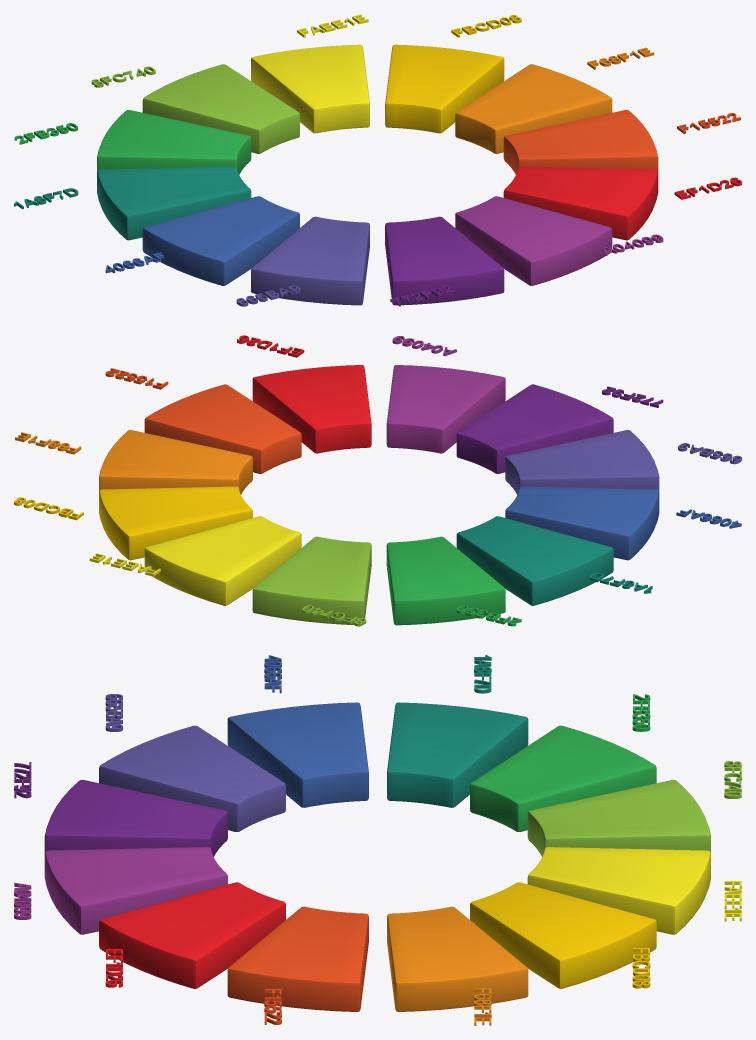
File: color_wheel2.glb
3 renders of one model, top to bottom at view 1: azimuth 30°, elevation 25°; view 2: azimuth 150°, elevation 25°; view 3: azimuth 270°, elevation 25°, orthographic. The views are drawn at different scales.
Parts seen in each view (by area): view 1: Tube008, Tube005, Tube006, Tube012, Tube013, Tube007, Tube011, Tube002, Tube009, Tube004, Tube010, Tube003 (+6 smaller); view 2: Tube004, Tube013, Tube003, Tube009, Tube008, Tube002, Tube007, Tube010, Tube005, Tube012, Tube006, Tube011 (+11 smaller); view 3: Tube009, Tube012, Tube010, Tube011, Tube004, Tube005, Tube003, Tube006, Tube008, Tube013, Tube002, Tube007 (+8 smaller).
Part boxes in pixels (box(x1,y1,x2,y2)): Tube008: box(455, 196, 612, 285); Tube005: box(142, 196, 299, 285); Tube006: box(251, 216, 369, 305); Tube012: box(385, 44, 504, 133); Tube013: box(251, 44, 369, 133); Tube007: box(385, 216, 504, 305); Tube011: box(455, 64, 612, 153); Tube002: box(142, 64, 299, 153); Tube009: box(503, 166, 658, 240); Tube004: box(97, 166, 251, 240); Tube010: box(503, 110, 658, 174); Tube003: box(97, 110, 251, 174); Tube004: box(456, 516, 613, 605); Tube013: box(144, 516, 301, 605); Tube003: box(386, 536, 505, 625); Tube009: box(252, 365, 371, 453); Tube008: box(386, 365, 505, 453); Tube002: box(252, 536, 371, 624); Tube007: box(456, 384, 613, 473); Tube010: box(144, 384, 301, 473); Tube005: box(505, 486, 659, 560); Tube012: box(99, 486, 252, 560); Tube006: box(505, 430, 659, 494); Tube011: box(99, 430, 252, 494); Tube009: box(99, 882, 285, 988); Tube012: box(470, 882, 656, 988); Tube010: box(227, 906, 368, 1011); Tube011: box(387, 906, 528, 1011); Tube004: box(387, 702, 528, 807); Tube005: box(227, 702, 368, 807); Tube003: box(470, 725, 656, 831); Tube006: box(99, 725, 285, 831); Tube008: box(44, 847, 227, 934); Tube013: box(527, 847, 710, 934); Tube002: box(527, 780, 710, 856); Tube007: box(44, 780, 227, 856).
Bounding box in the file's own units: 130 × 5.5 × 109.
